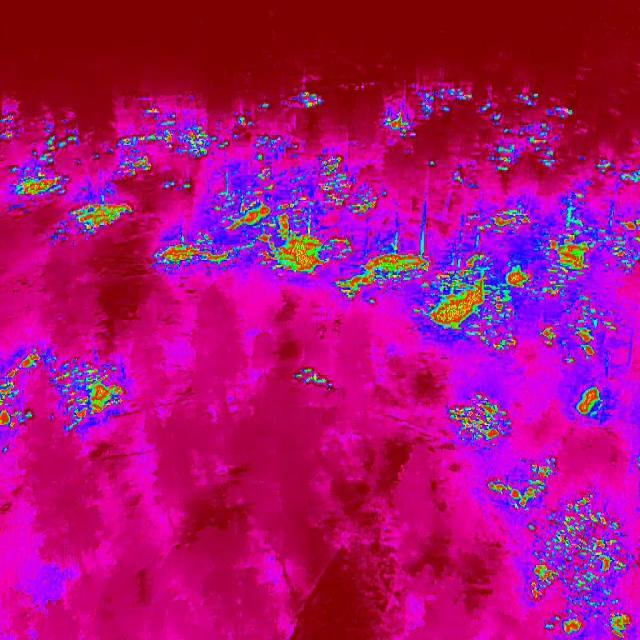fire: (203, 156, 429, 318), (420, 249, 618, 367), (530, 496, 632, 610), (110, 106, 234, 192), (481, 96, 580, 186), (49, 357, 134, 431), (8, 128, 84, 208), (154, 232, 245, 280), (457, 195, 538, 247), (487, 458, 557, 516), (0, 344, 45, 431), (57, 190, 133, 240), (450, 393, 510, 449), (602, 212, 640, 276), (293, 356, 344, 396), (251, 130, 306, 164), (570, 381, 606, 422), (545, 607, 588, 640), (290, 85, 330, 113), (382, 104, 415, 137), (603, 609, 635, 640), (228, 108, 258, 138), (0, 107, 16, 145)
